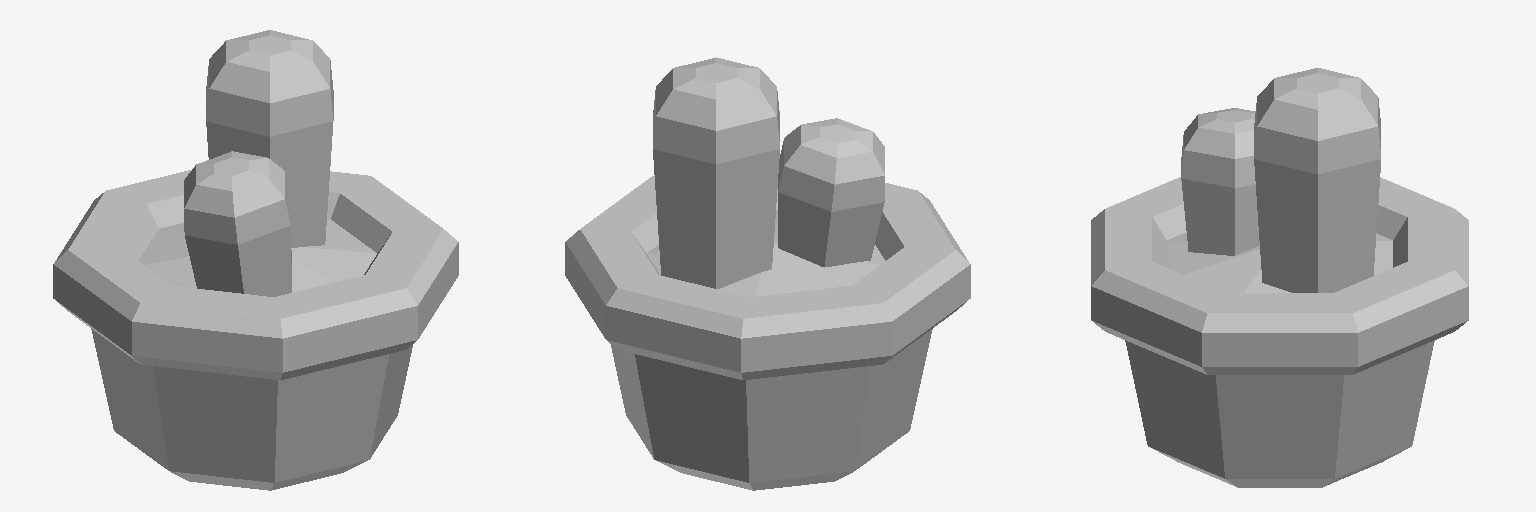
Rendered from cactus_small_B.obj.
The picture shows the model from 3 angles: view 1: azimuth 30°, elevation 25°; view 2: azimuth 150°, elevation 25°; view 3: azimuth 270°, elevation 25°; orthographic projection.
Parts seen in each view (by area): view 1: cactus_small_B_Cylinder.002; view 2: cactus_small_B_Cylinder.002; view 3: cactus_small_B_Cylinder.002.
Part boxes in pixels (bbox=[...]): cactus_small_B_Cylinder.002: bbox=[53, 30, 458, 490]; cactus_small_B_Cylinder.002: bbox=[565, 57, 970, 490]; cactus_small_B_Cylinder.002: bbox=[1091, 68, 1468, 487].
Bounding box in the file's own units: 0.5 × 0.5516 × 0.5.